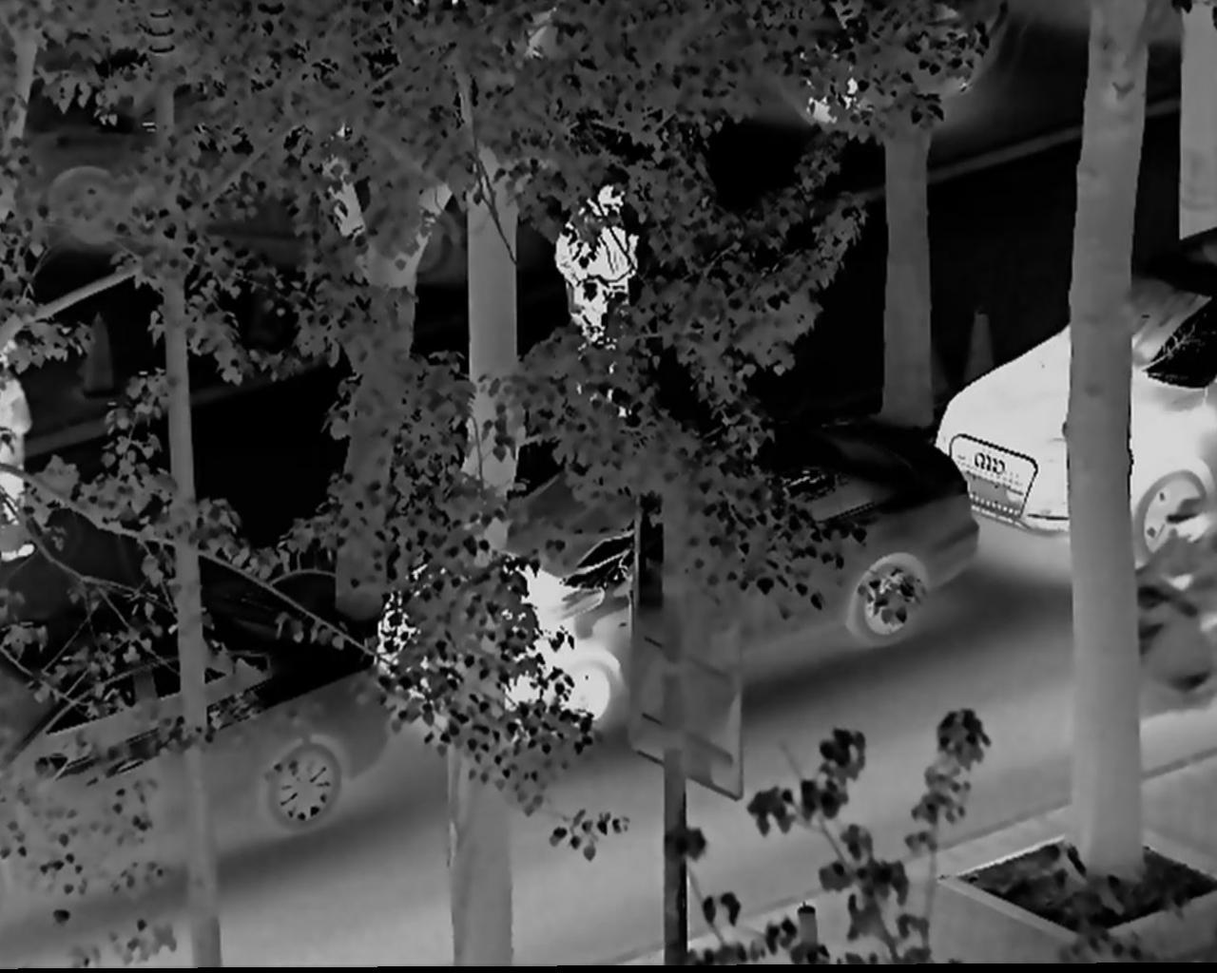person: (553, 180, 639, 405)
